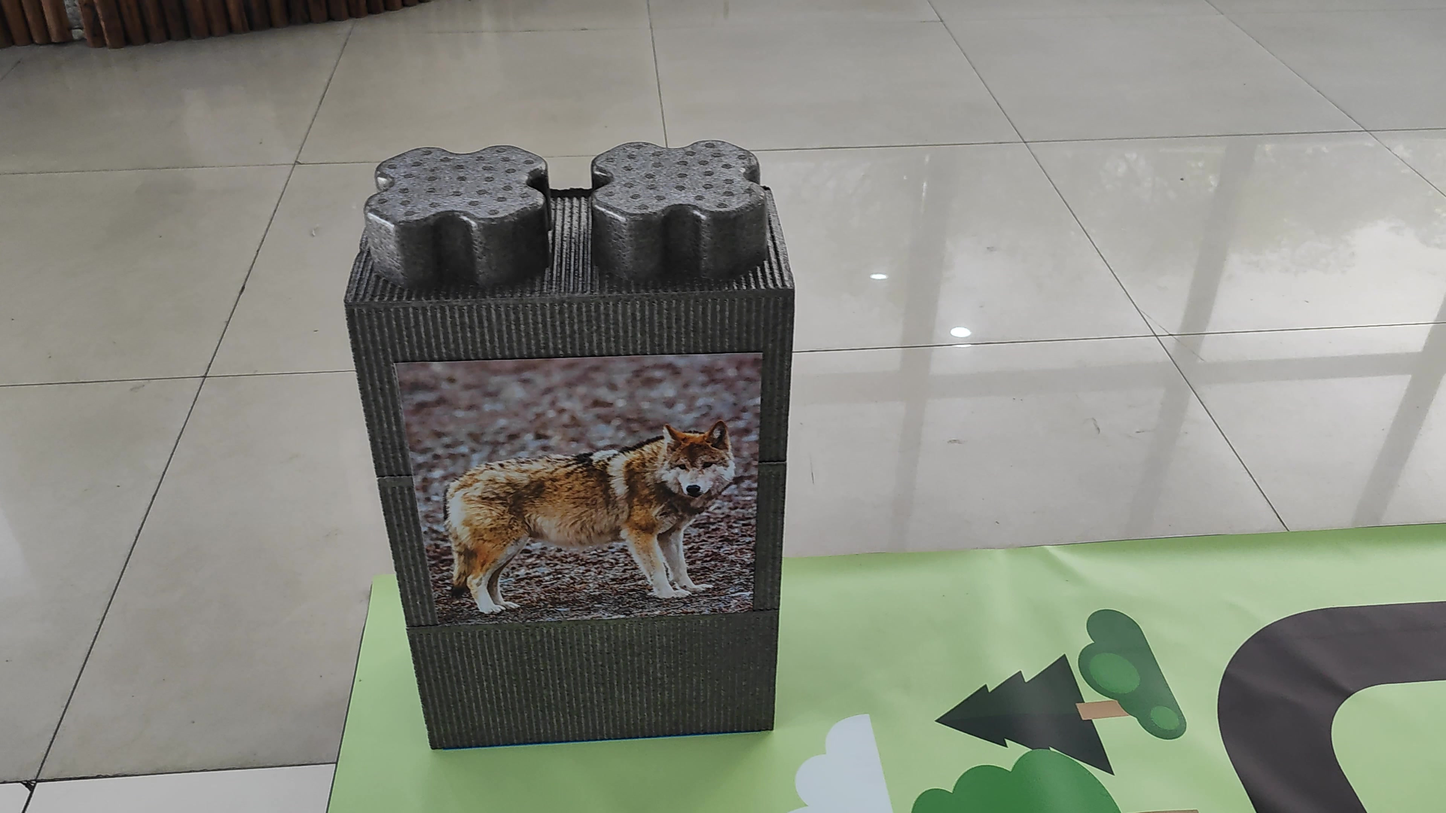wolf: (423, 406, 753, 630)
